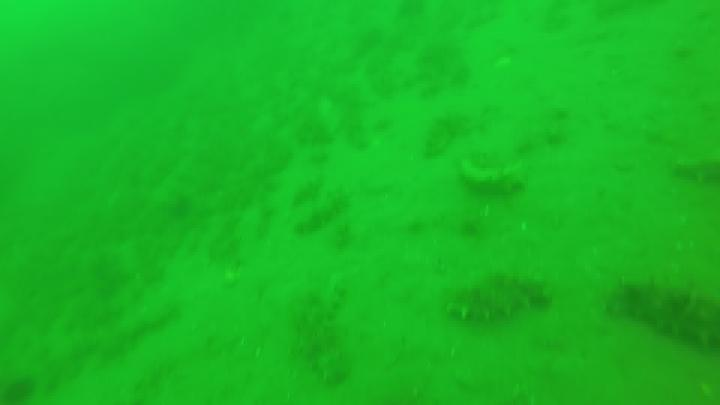holothurian: (612, 278, 720, 349), (450, 275, 554, 330)
